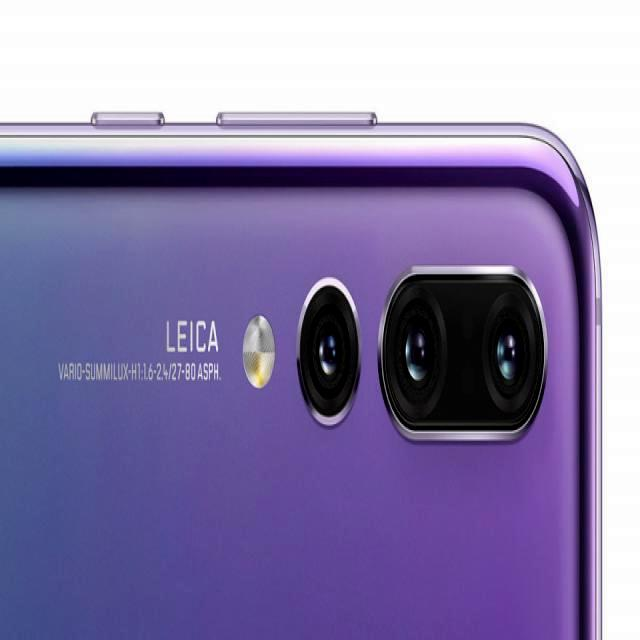lens_back: (292, 270, 365, 430), (386, 286, 452, 416), (476, 286, 540, 420)
